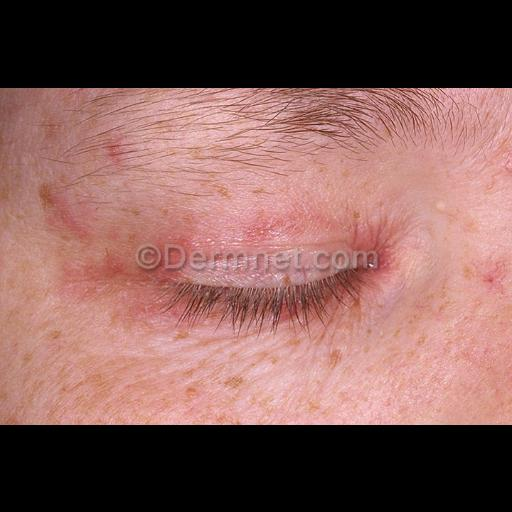Skin_Lesion: (31, 180, 87, 240), (206, 176, 244, 208), (480, 263, 512, 299), (242, 212, 280, 238), (213, 371, 257, 393), (320, 351, 358, 371)
